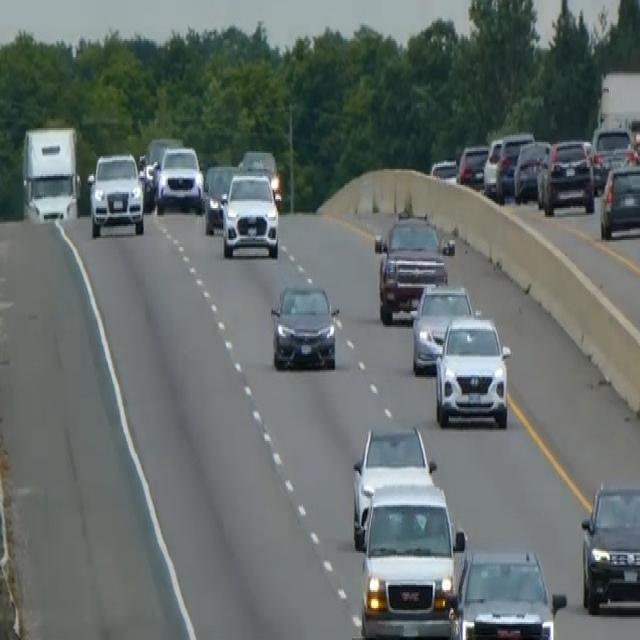car: (351, 422, 436, 548), (454, 544, 567, 638), (434, 313, 511, 428), (579, 480, 639, 615), (269, 281, 339, 371), (410, 281, 474, 375), (220, 169, 279, 259), (86, 150, 145, 236), (536, 137, 595, 215), (483, 130, 533, 201), (155, 144, 203, 213), (598, 160, 639, 240), (589, 123, 635, 190), (201, 162, 237, 234), (512, 138, 551, 202), (239, 148, 281, 202), (141, 135, 182, 187), (457, 142, 489, 188), (482, 135, 503, 196), (430, 156, 458, 182)
jeep: (374, 212, 449, 324)
lorry: (20, 123, 82, 224)
minivan: (357, 476, 465, 638)
